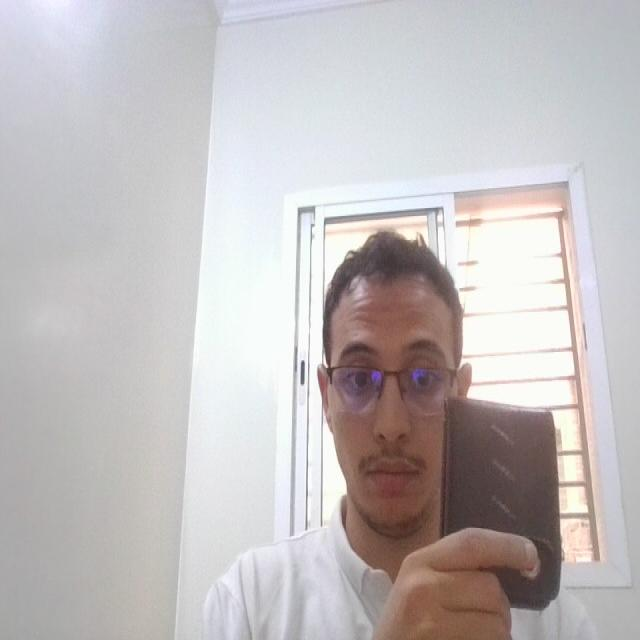wallet: (443, 388, 569, 617)
